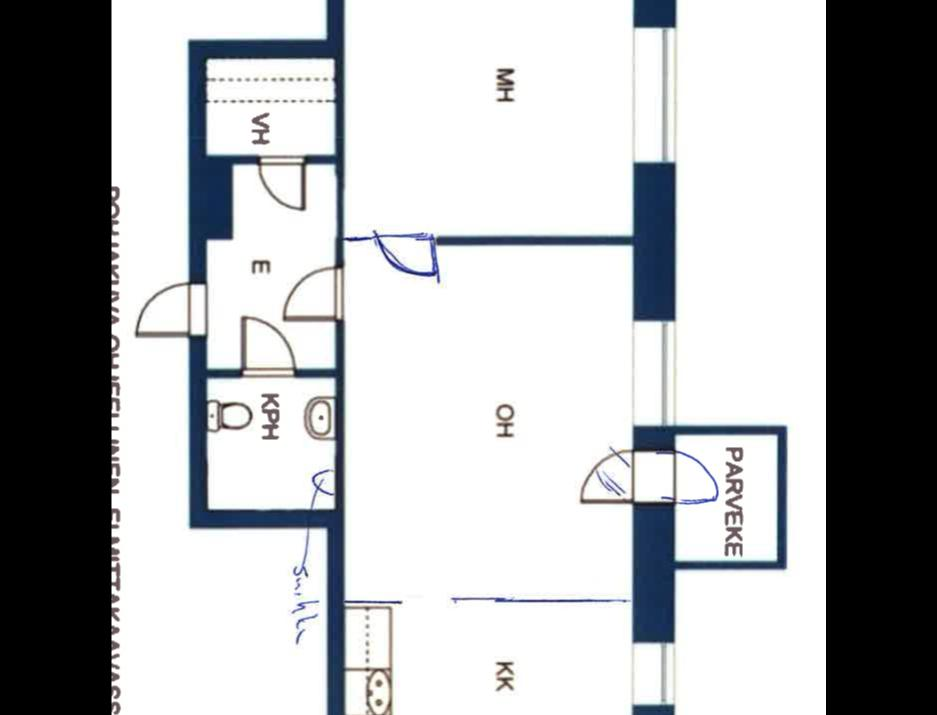door: (130, 280, 212, 343), (575, 445, 640, 512), (278, 264, 348, 325), (374, 223, 442, 282), (656, 445, 722, 505), (238, 316, 298, 380), (253, 150, 309, 212)
window: (628, 12, 679, 170), (628, 311, 680, 430), (627, 634, 678, 714)
